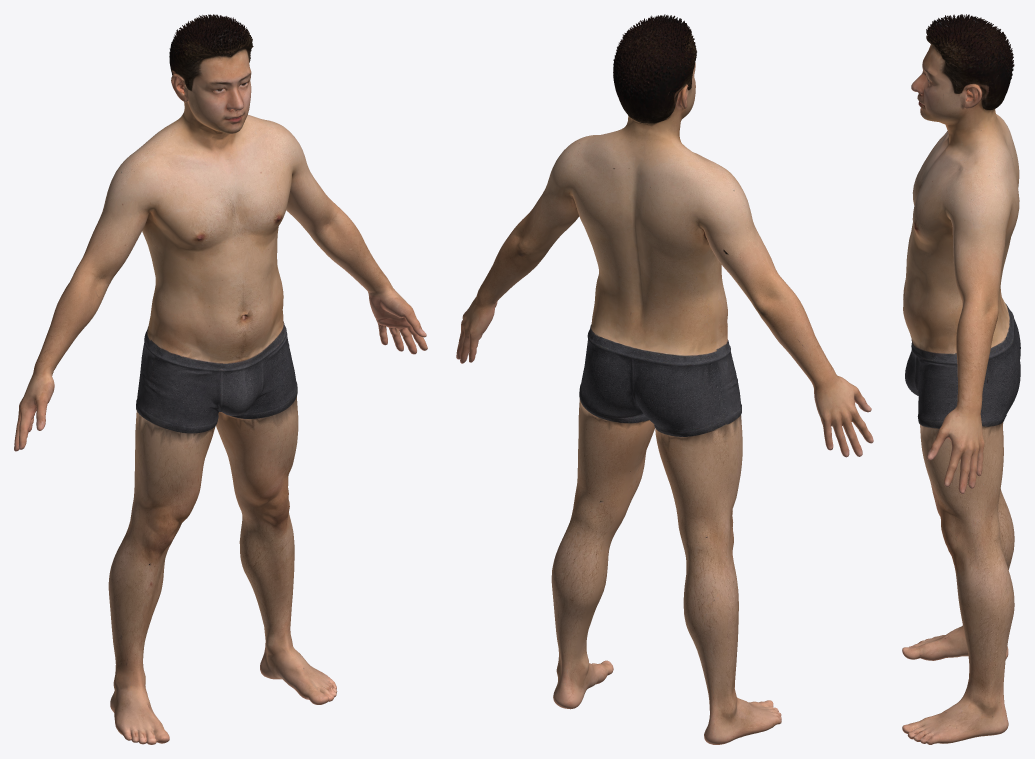
Rendered from character.glb.
3 views of the same model, side by side, from view 1: azimuth 30°, elevation 25°; view 2: azimuth 150°, elevation 25°; view 3: azimuth 270°, elevation 25° (orthographic).
Visible parts, largest first — view 1: Mesh_0.001; view 2: Mesh_0.001; view 3: Mesh_0.001.
Part boxes in pixels (x1,y1,x2,y2): Mesh_0.001: (14, 14, 427, 744); Mesh_0.001: (456, 14, 873, 744); Mesh_0.001: (902, 14, 1020, 744).
Bounding box in the file's own units: 1.18 × 1.9 × 0.3004.
1 material, 1 textured.
